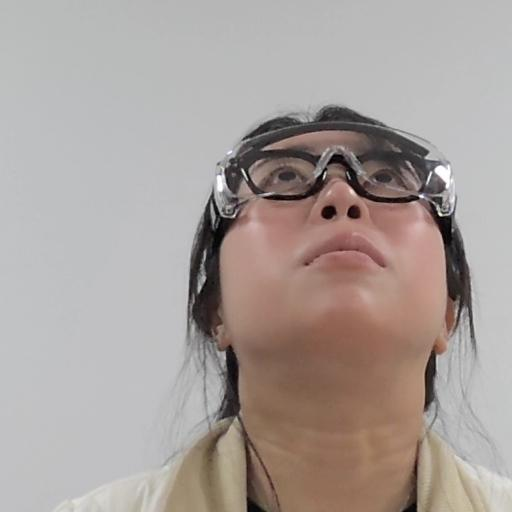glasses: (185, 107, 475, 408)
